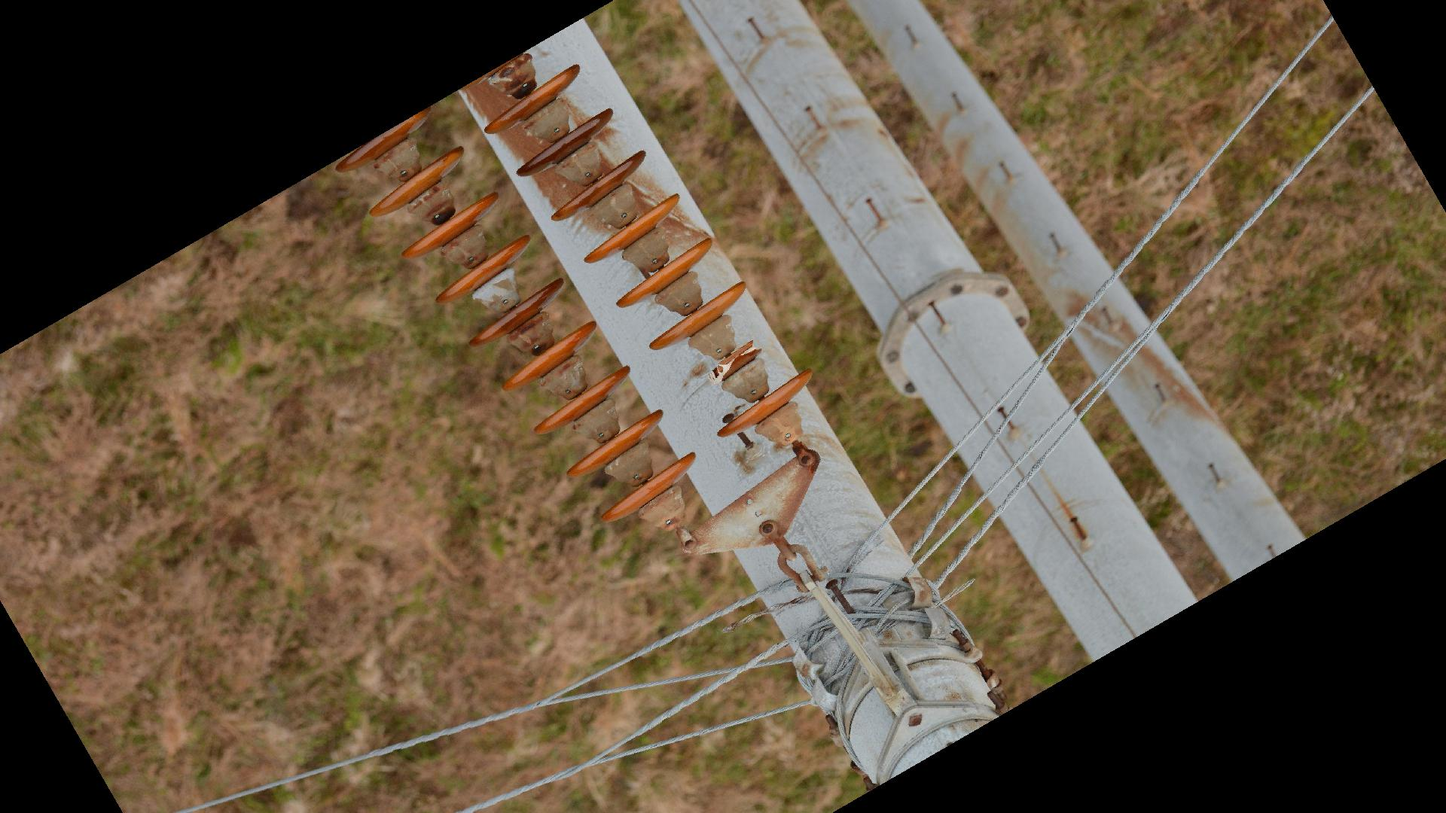insulator: (331, 101, 700, 528), (481, 59, 818, 443)
insulator_breakage: (703, 338, 761, 386)
